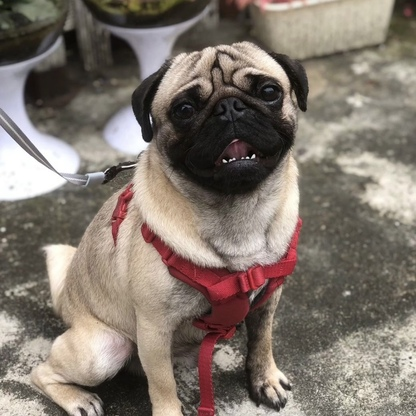Pug: (25, 37, 313, 416)
